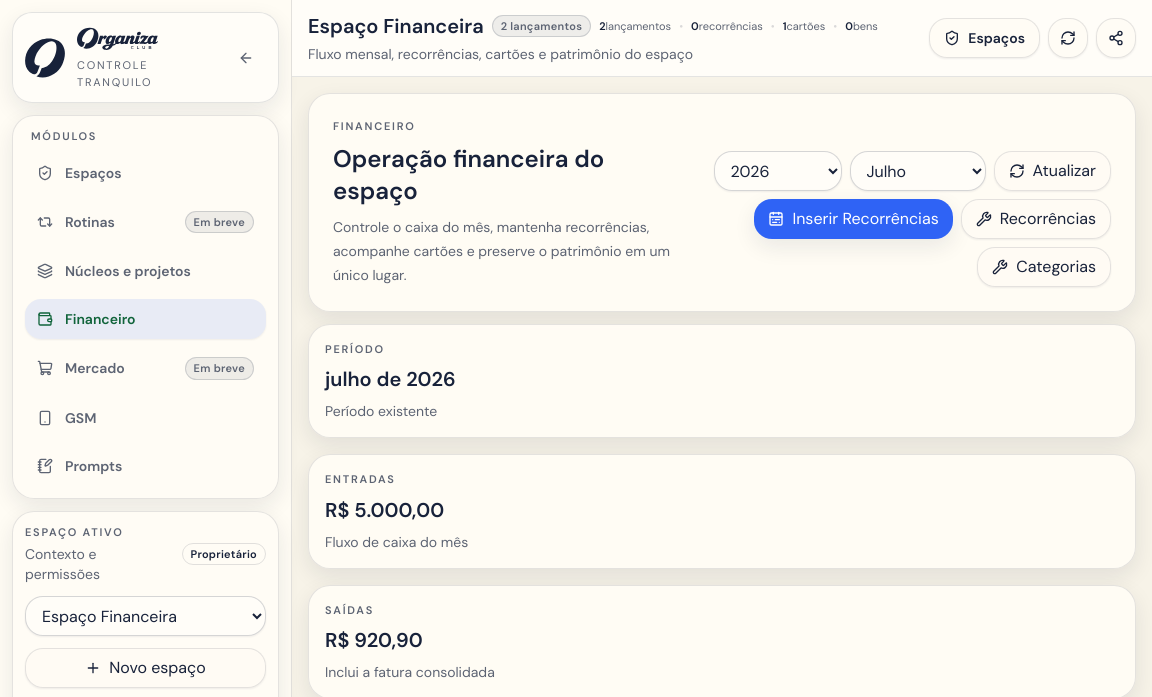
it: FinanceDashboardWorkspace › opens the categories modal from the toolbar and allows starting a new category
Click the button "Categorias". click: [1044, 266]
box: [977, 246, 1111, 286]
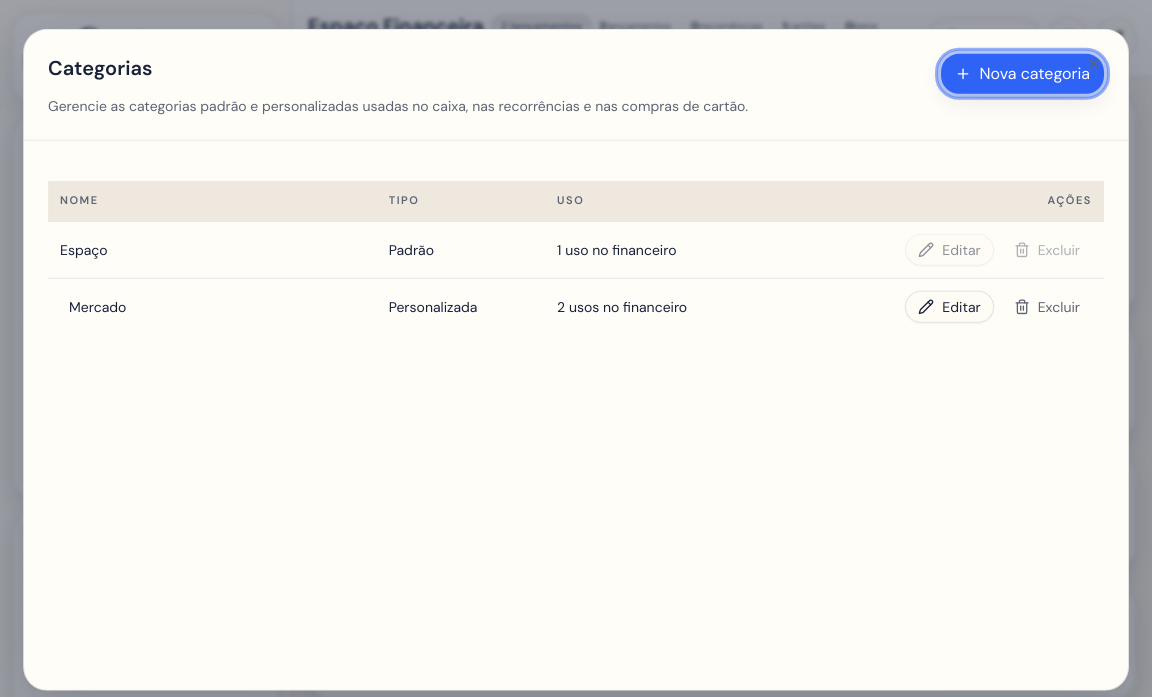
Now the dialog "Categorias" is shown
Click the button "Nova categoria". click: [1023, 74]
box: [942, 54, 1104, 94]
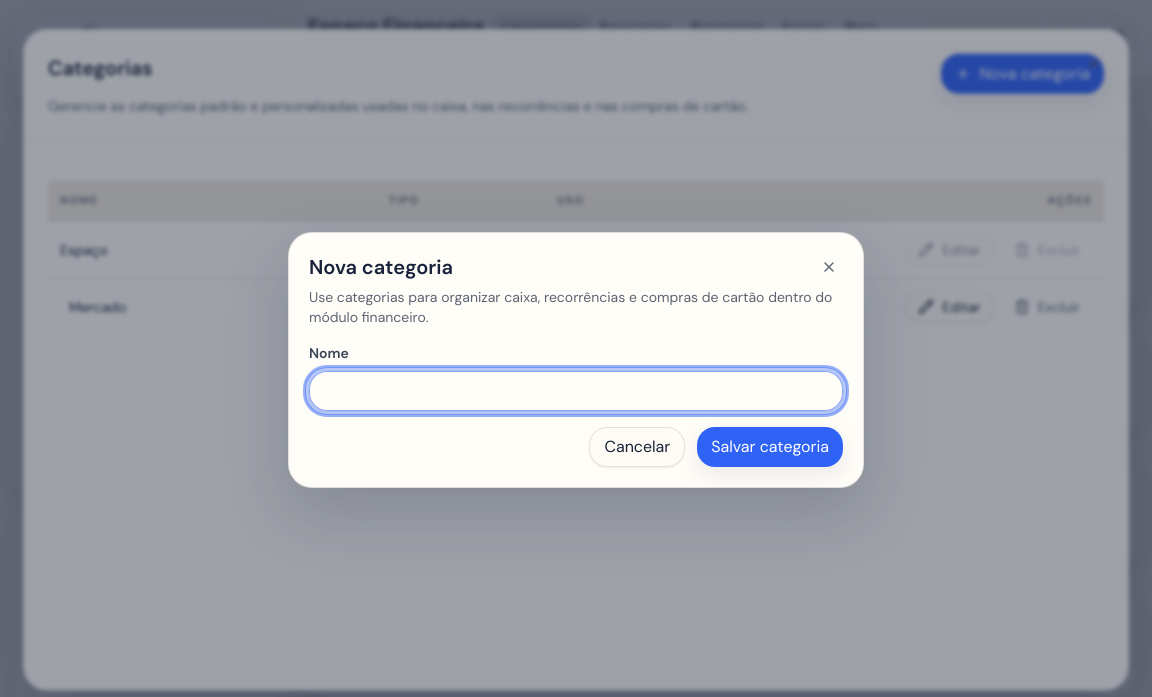
Now the dialog "Nova categoria" is shown, box [288, 232, 864, 488]
